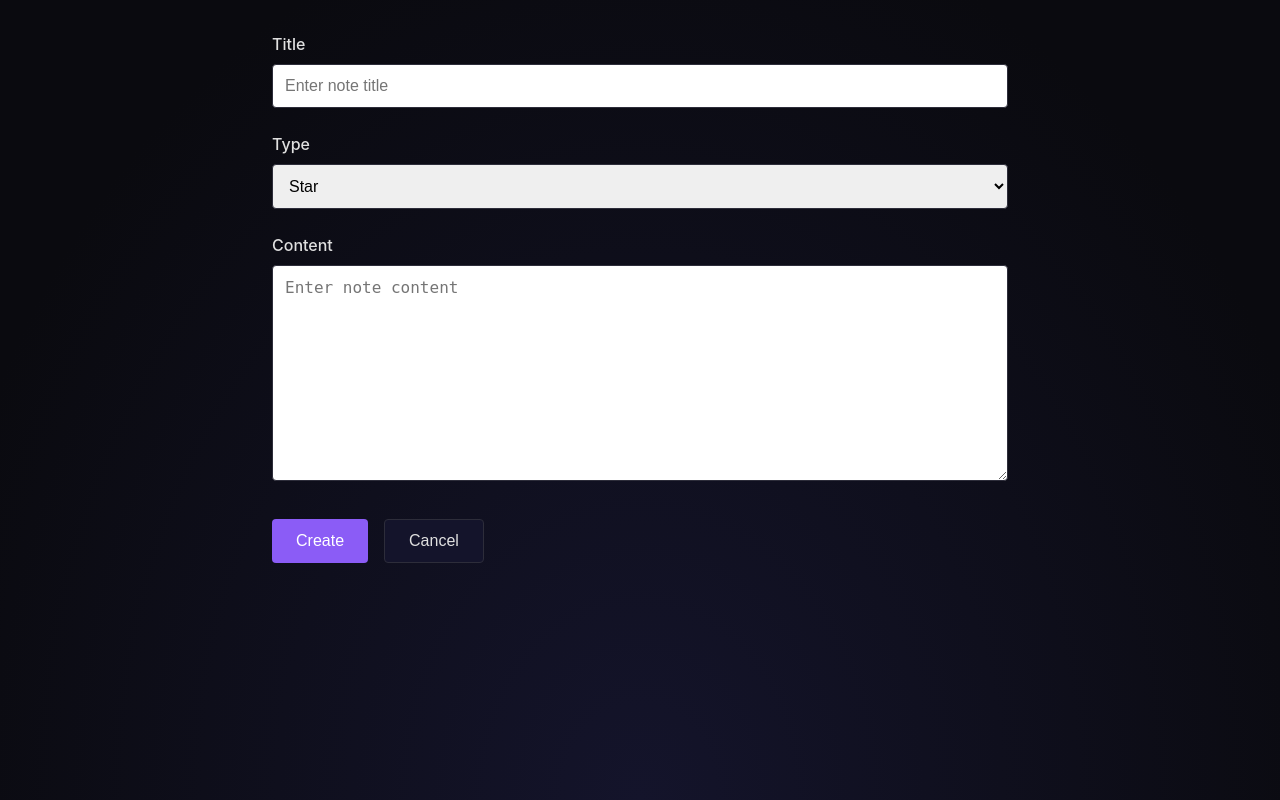
Test: NoteEditor › Create mode › should validate empty title and block submission
The image size is (1280, 800).
Click the button with test id "save-button" at [320, 541], box [272,519,368,563]
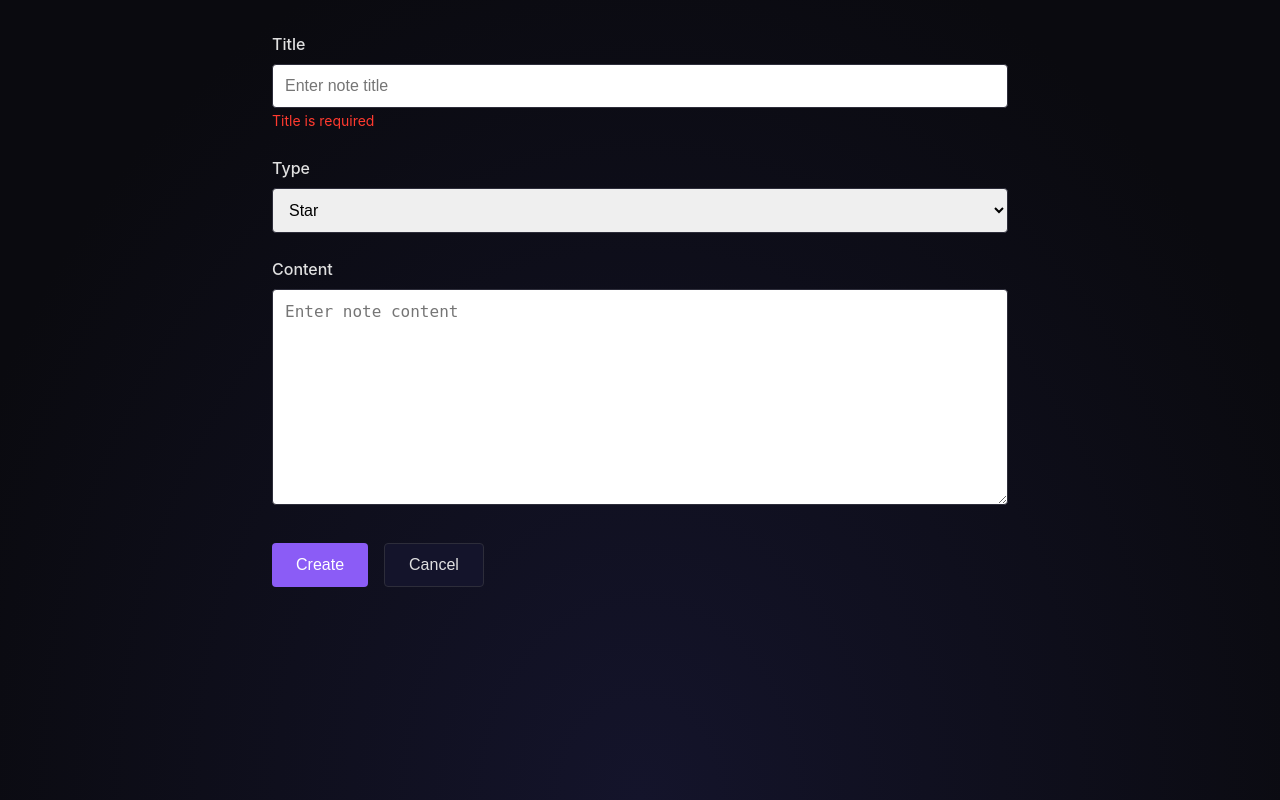
Expected: the text with test id "title-error" reads "Title is required", [272,112,374,129]
